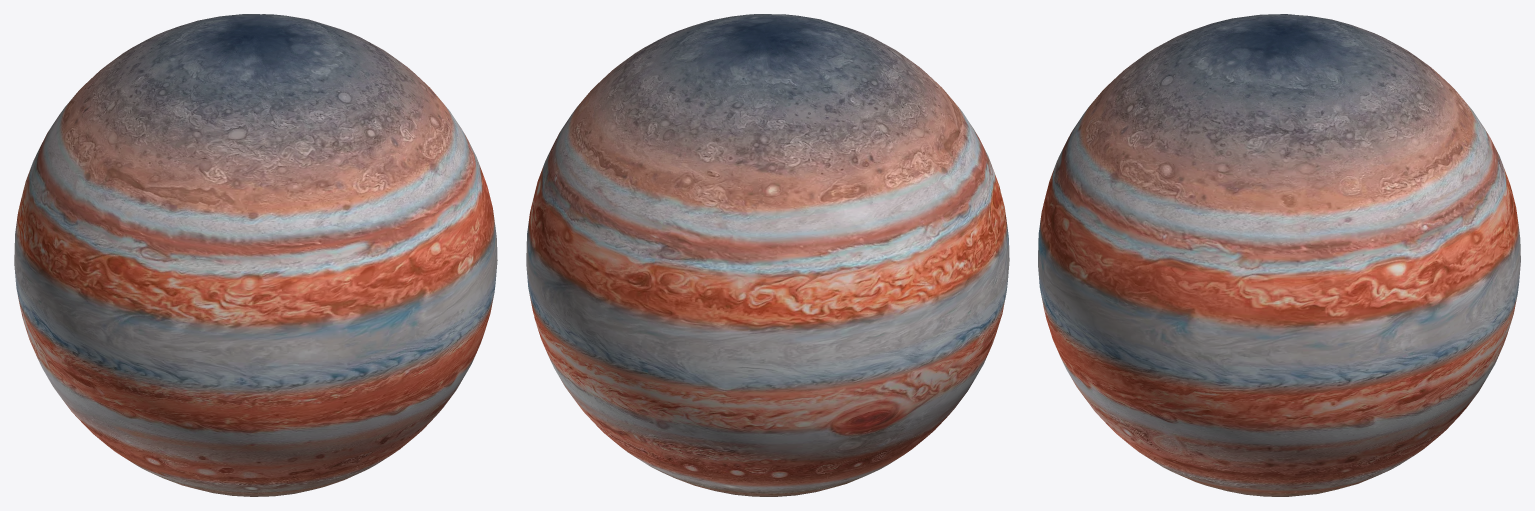
The model's file is jupiter.glb.
3 views of the same model, side by side, from view 1: azimuth 30°, elevation 25°; view 2: azimuth 150°, elevation 25°; view 3: azimuth 270°, elevation 25° (orthographic).
Visible parts, largest first — view 1: Jupiter_Planeta_0; view 2: Jupiter_Planeta_0; view 3: Jupiter_Planeta_0.
Boxes of the visible parts, x1,y1,x2,y2 form: Jupiter_Planeta_0: [14, 14, 497, 496]; Jupiter_Planeta_0: [526, 14, 1009, 496]; Jupiter_Planeta_0: [1038, 14, 1520, 496].
Size of what is drawn, in the model's own units: 19.99 by 20 by 19.98.
1 material, 1 textured.
